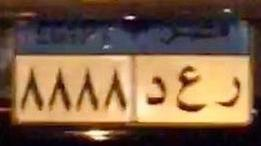8: (73, 64, 101, 114), (47, 66, 72, 117), (102, 66, 128, 114), (20, 64, 44, 115)
ain: (174, 64, 208, 117)
daal: (143, 72, 169, 111)
raa: (213, 72, 244, 113)
